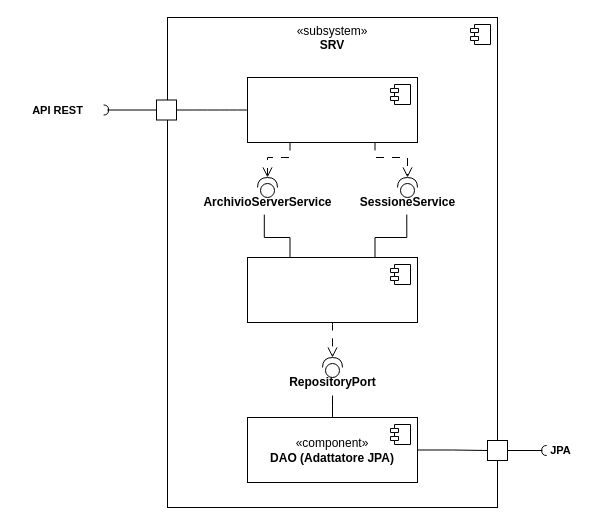
Image size: 613x525. Some labels were removed from this diagram. Here are the shapes that lost their labels. From the top down, the box of each, then its label:
(246, 76, 418, 142): «component» Controller REST
(246, 256, 418, 322): «component» Service (servizi e controllo accessi)
